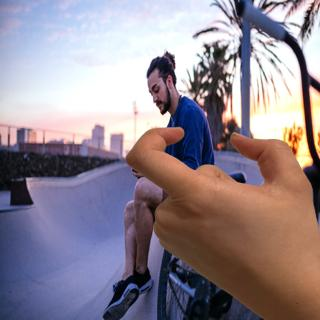HATE: (122, 123, 320, 320)
